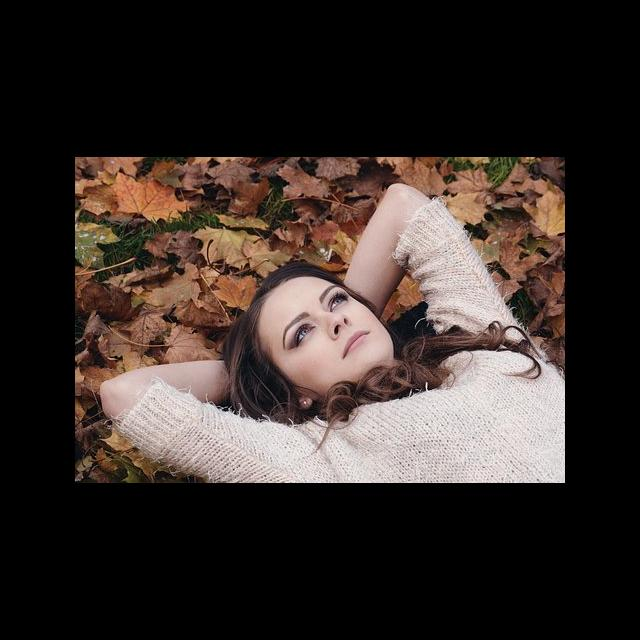female: (198, 240, 416, 402)
